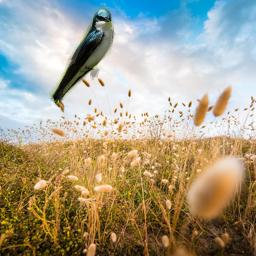Swallow: (49, 7, 115, 107)
